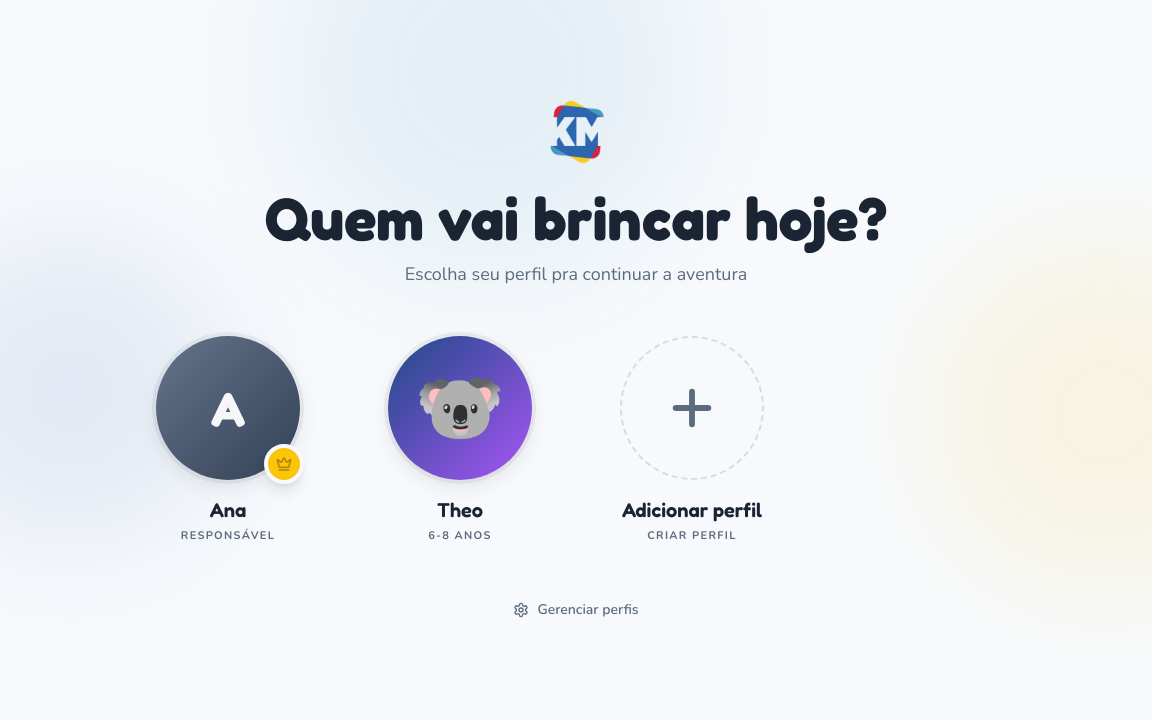
Scenario: SelectProfilePage (Story 6.1) › adiciona um novo perfil pelo formulário inline e exibe na lista (AC3, Story 8.1)
expect the text "Ana" is shown: met, box 210,498 -> 246,522
Click the text "Adicionar perfil".
click(692, 510)  # box 622,496 -> 762,524
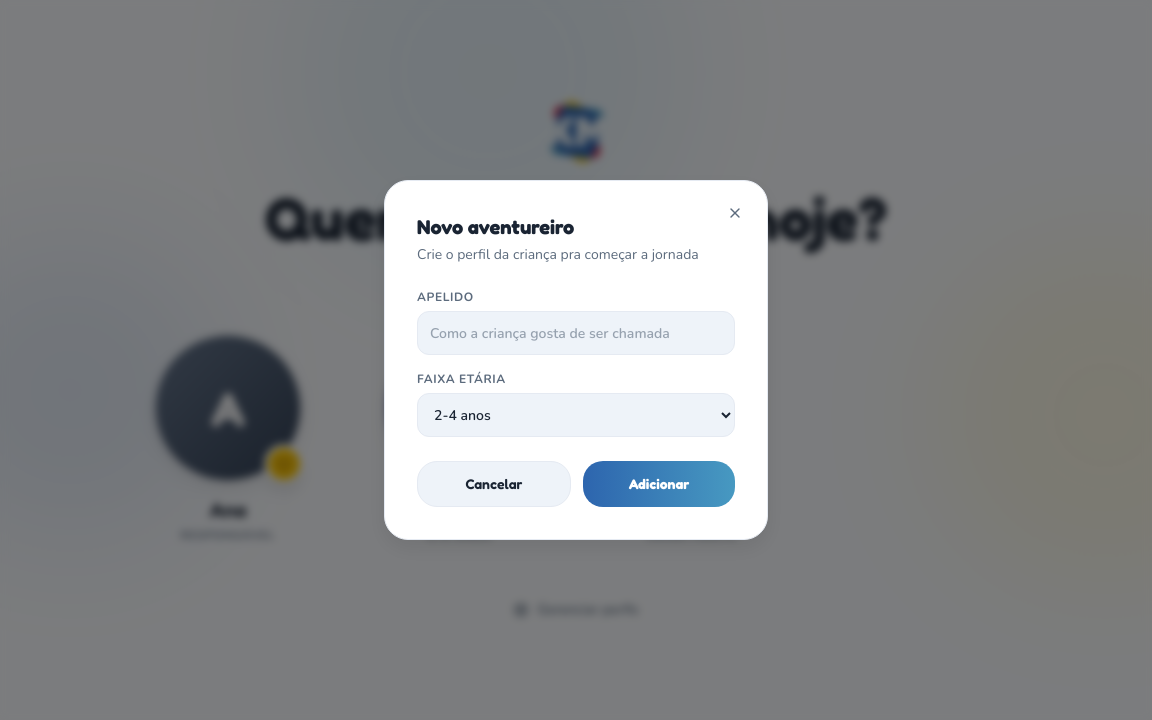
Type "Bia" into the field labelled "Apelido".
click(576, 333); type("Bia")  # box 417,311 -> 735,355
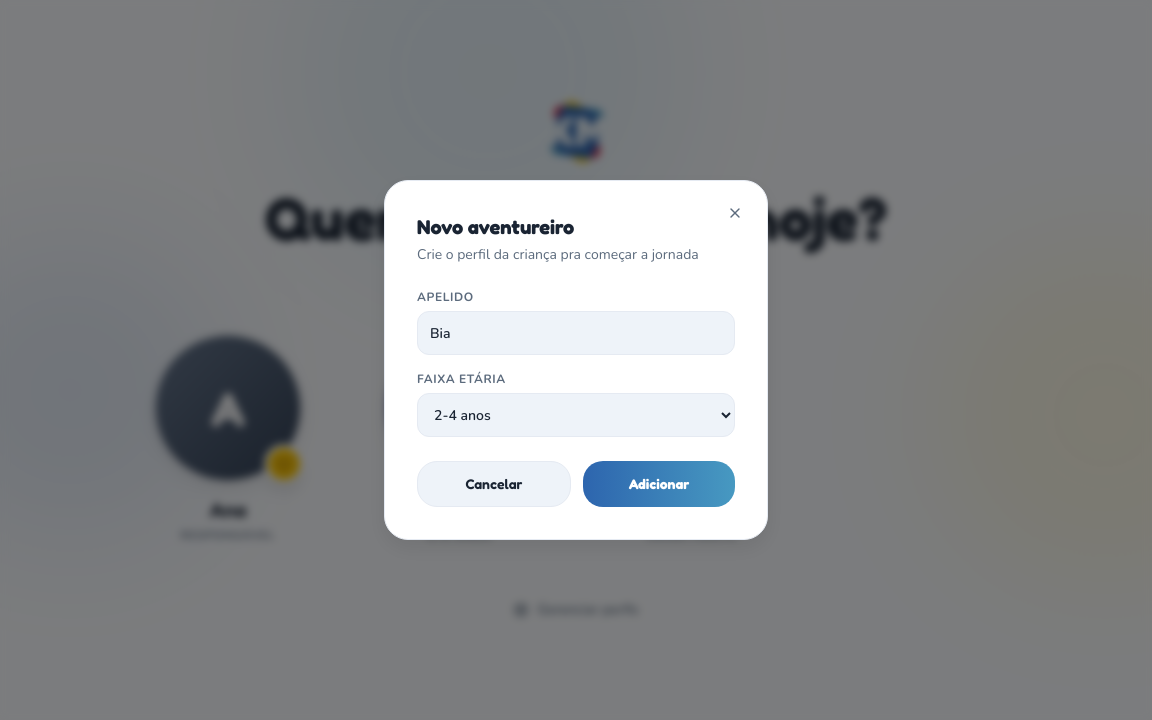
Click the button "Adicionar".
click(659, 484)  # box 583,461 -> 735,507
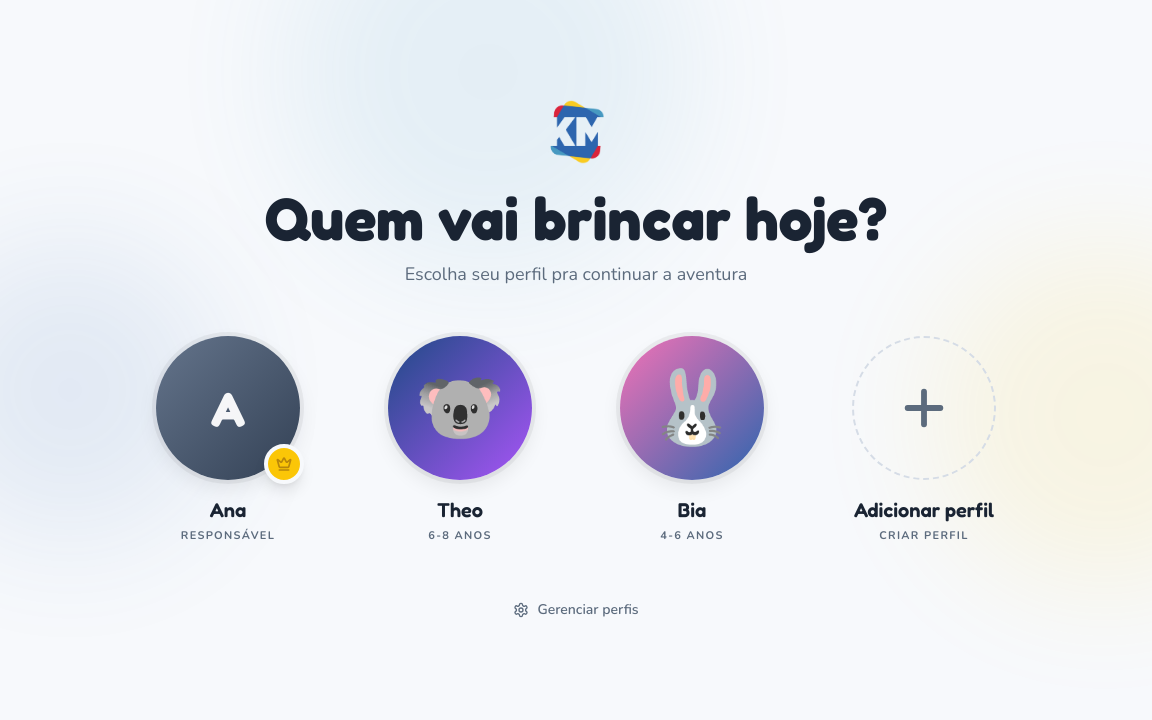
expect the text "Bia" is shown: met, box 678,498 -> 706,522
